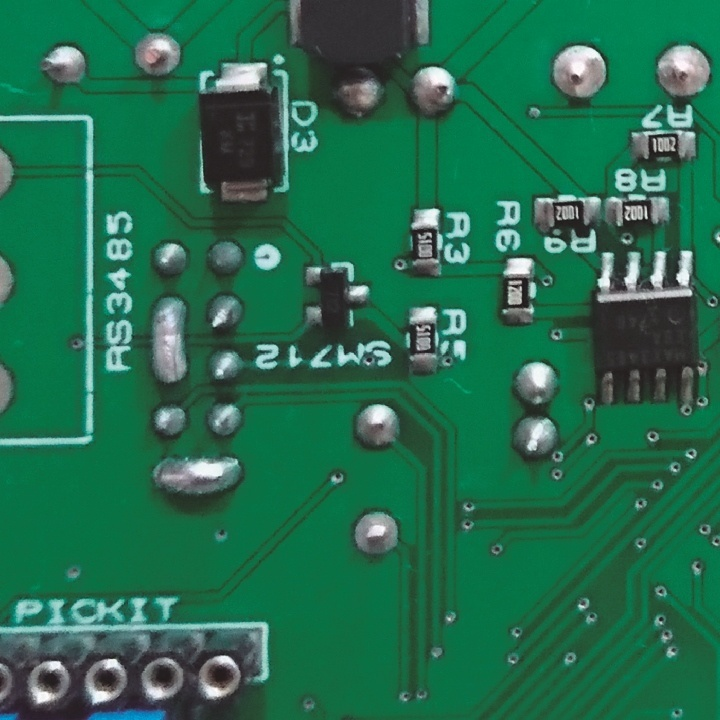F: (654, 40, 714, 107), (550, 43, 611, 102), (350, 506, 401, 565), (36, 40, 93, 90), (124, 34, 185, 78)
P: (150, 454, 251, 501), (144, 292, 191, 391)
